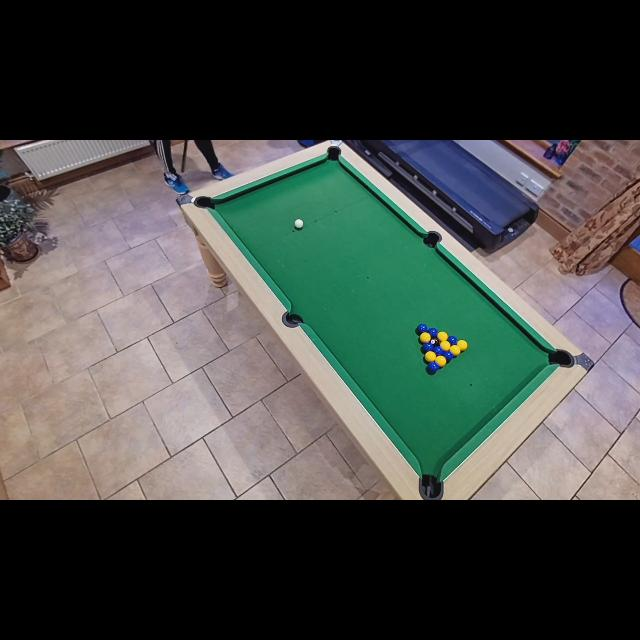Ball: (424, 351, 436, 361), (434, 356, 446, 366), (457, 341, 467, 352), (418, 324, 428, 334), (447, 336, 457, 346), (423, 342, 433, 352), (433, 346, 443, 356), (428, 362, 438, 372), (420, 333, 430, 343), (437, 332, 447, 342), (440, 341, 450, 351), (450, 346, 460, 356), (430, 336, 440, 346), (428, 328, 438, 337), (443, 352, 452, 361), (294, 220, 304, 228)
